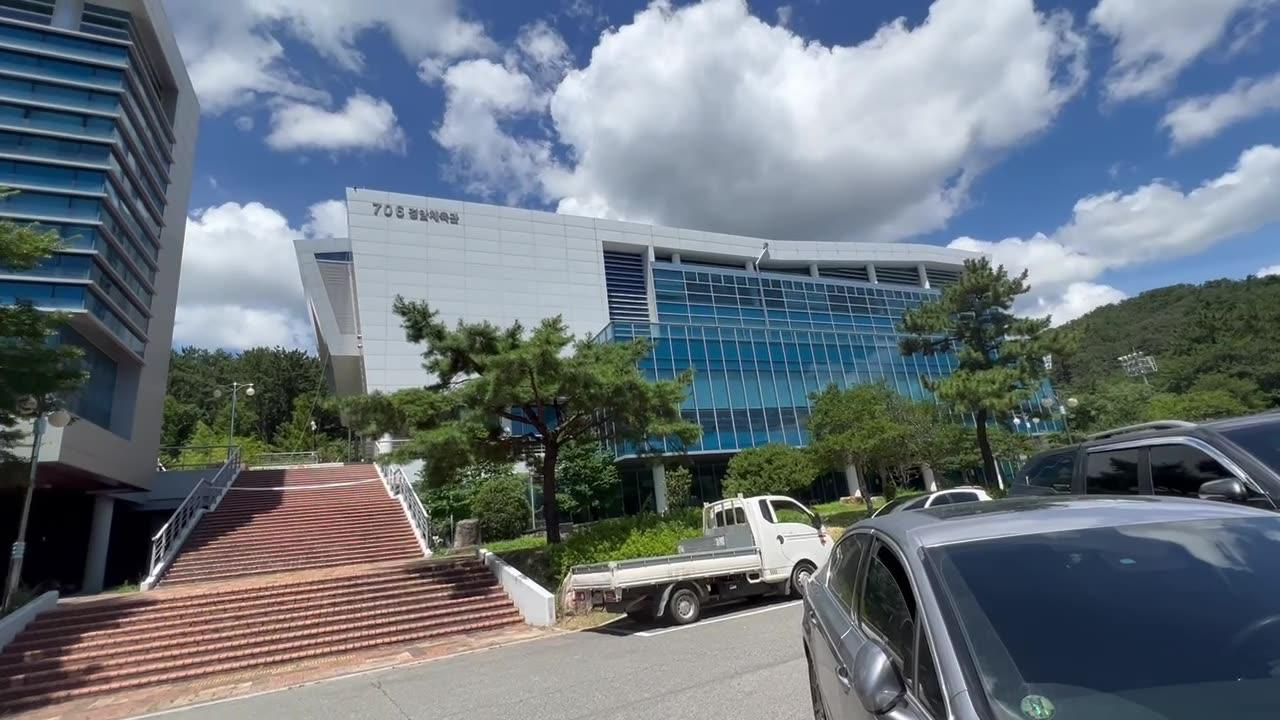building: (291, 179, 936, 388)
